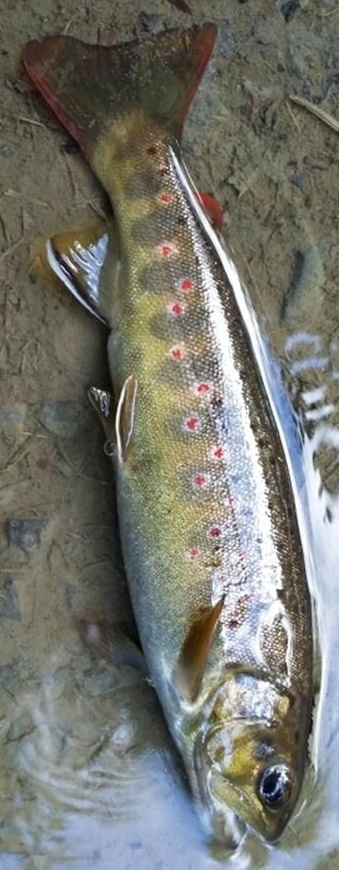Salmo trutta subsp. fario: (20, 20, 319, 850)
